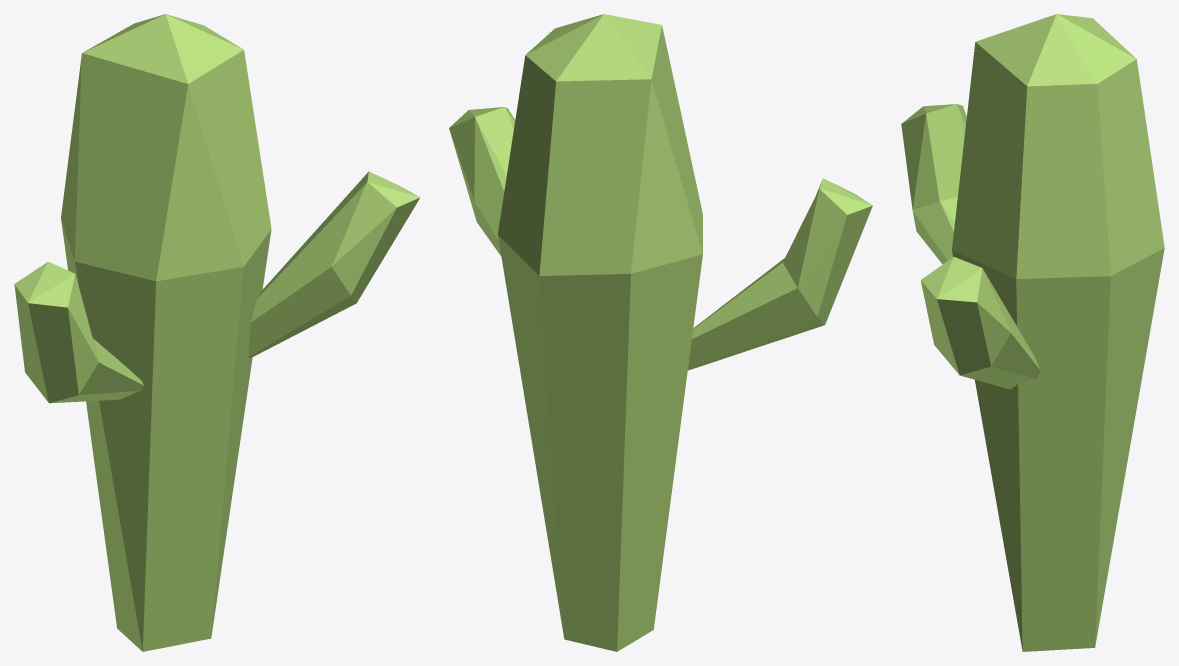
File: Cactus_a_m_06.fbx
The picture shows the model from 3 angles, left to right: view 1: azimuth 30°, elevation 25°; view 2: azimuth 150°, elevation 25°; view 3: azimuth 270°, elevation 25°; orthographic projection.
Visible parts, largest first — view 1: Cactus_a_m_06; view 2: Cactus_a_m_06; view 3: Cactus_a_m_06.
Part boxes in pixels (left/top/right/bottom): Cactus_a_m_06: left=14, top=14, right=420, bottom=651; Cactus_a_m_06: left=449, top=14, right=872, bottom=651; Cactus_a_m_06: left=901, top=14, right=1164, bottom=651.
Bounding box in the file's own units: 137 × 203 × 77.47.
